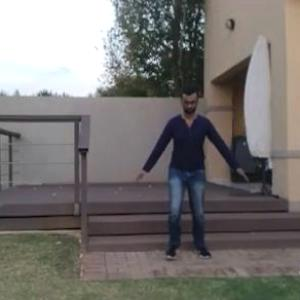land: (142, 85, 250, 264)
